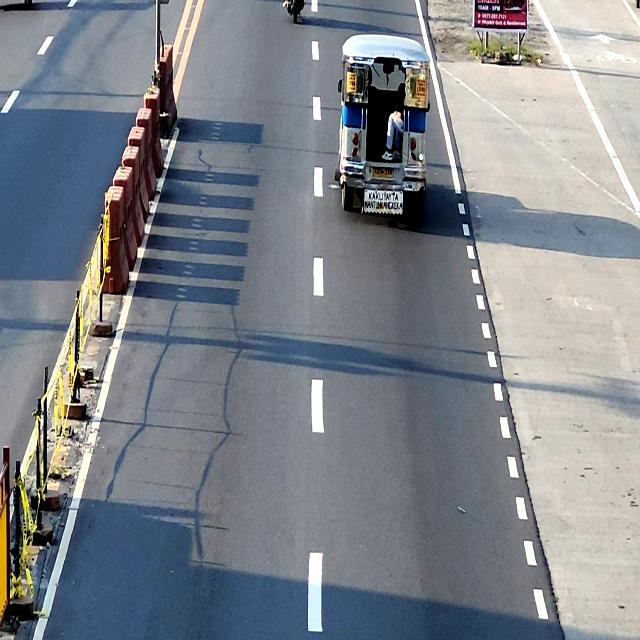Jeep: (338, 34, 430, 214)
License-Plate: (373, 167, 394, 179)
